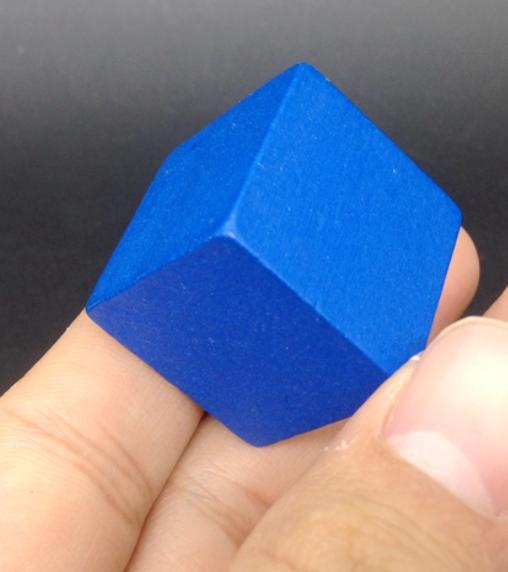bluecube: (82, 58, 465, 451)
